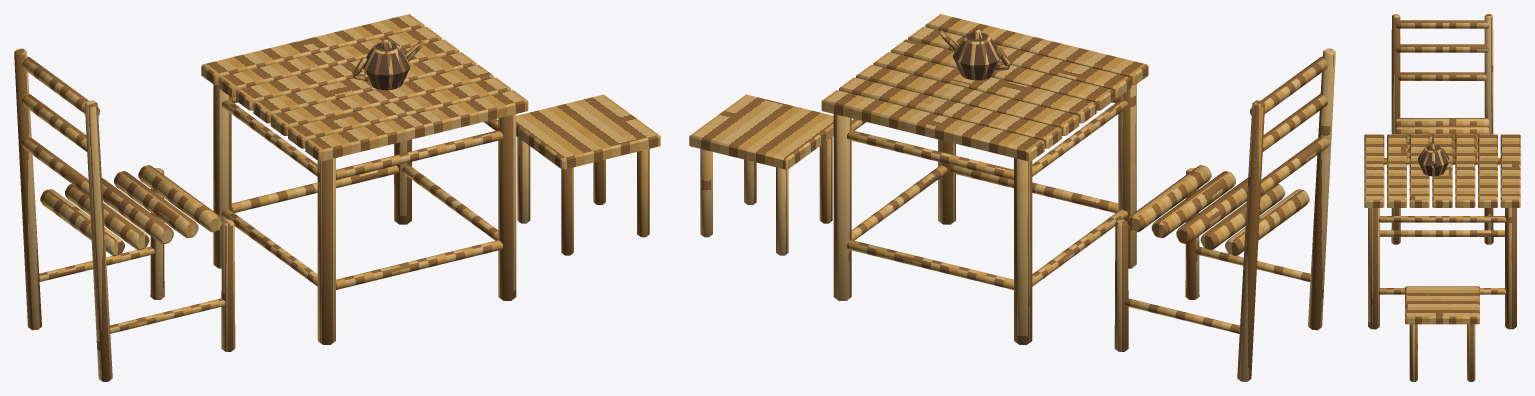
The model's file is cn_bamboo_table_set_2.glb.
The picture shows the model from 3 angles, left to right: view 1: azimuth 30°, elevation 25°; view 2: azimuth 150°, elevation 25°; view 3: azimuth 270°, elevation 25°; orthographic projection. The views are drawn at different scales.
Visible parts, largest first — view 1: cn_bamboo_table_set_3; view 2: cn_bamboo_table_set_3; view 3: cn_bamboo_table_set_3.
Boxes of the visible parts, <box> form: cn_bamboo_table_set_3: <box>14,14,660,381</box>; cn_bamboo_table_set_3: <box>689,14,1335,381</box>; cn_bamboo_table_set_3: <box>1364,14,1520,381</box>.
Bounding box in the file's own units: 2 × 0.9215 × 0.708.
2 materials, 2 textured.
